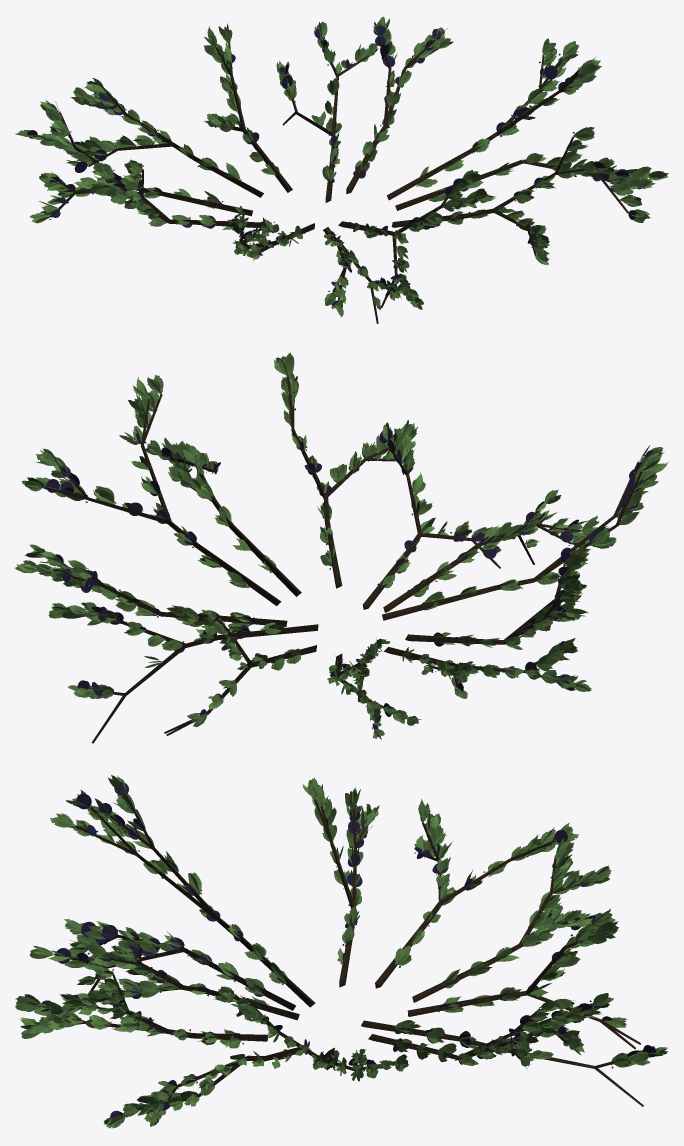
The model's file is bilberry_low_v01_LOD1.fbx.
3 renders of one model, top to bottom at view 1: azimuth 30°, elevation 25°; view 2: azimuth 150°, elevation 25°; view 3: azimuth 270°, elevation 25°, orthographic. The views are drawn at different scales.
Visible parts, largest first — view 1: bilberry_low_v01_LOD1; view 2: bilberry_low_v01_LOD1; view 3: bilberry_low_v01_LOD1.
Part boxes in pixels (box(x1,y1,x2,y2)): bilberry_low_v01_LOD1: box(15, 16, 668, 323); bilberry_low_v01_LOD1: box(14, 352, 668, 743); bilberry_low_v01_LOD1: box(15, 774, 667, 1128).
Bounding box in the file's own units: 87.53 × 26.94 × 83.1.
2 materials, 2 textured.
